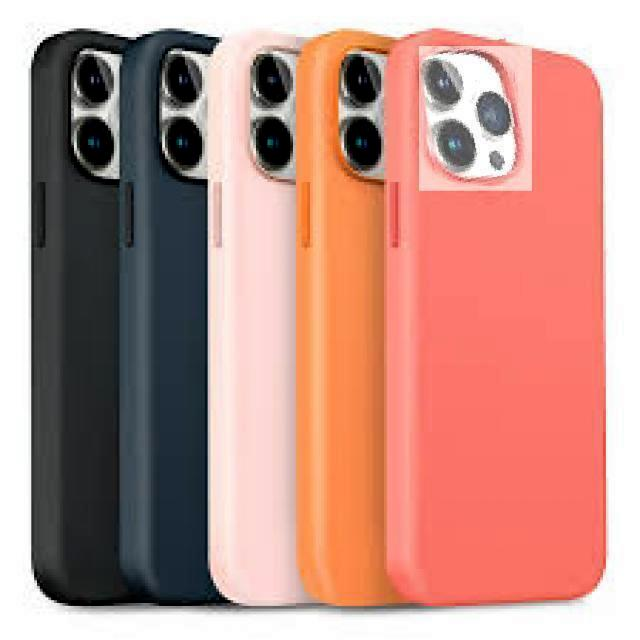lens_back: (243, 111, 300, 184), (329, 110, 385, 177), (152, 111, 212, 171), (427, 114, 481, 177), (70, 42, 119, 110), (162, 44, 214, 108), (332, 44, 383, 107), (245, 50, 294, 113), (68, 113, 118, 170), (421, 51, 462, 106), (476, 83, 506, 137)
phone: (392, 26, 616, 602), (26, 26, 133, 612), (305, 16, 407, 616), (136, 19, 224, 614)
